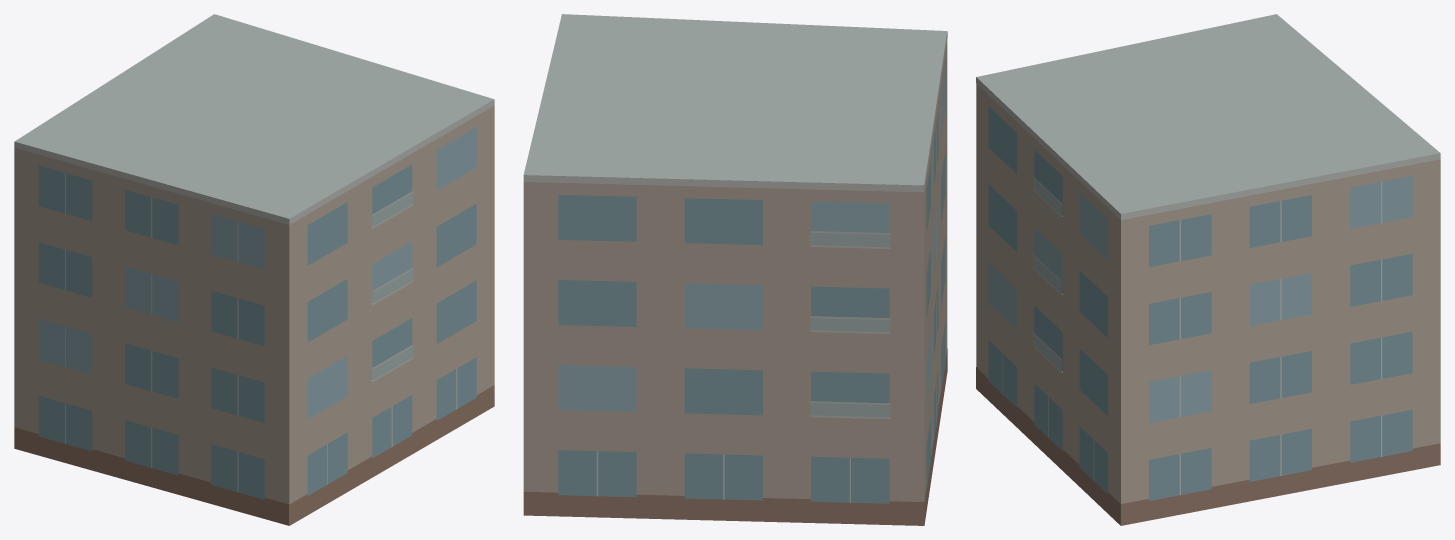
The model's file is survey-upis-33045461.glb.
3 views of the same model, side by side, from view 1: azimuth 30°, elevation 25°; view 2: azimuth 150°, elevation 25°; view 3: azimuth 270°, elevation 25° (orthographic). The views are drawn at different scales.
Parts seen in each view (by area): view 1: survey-upis-33045461.tmp; view 2: survey-upis-33045461.tmp; view 3: survey-upis-33045461.tmp.
Boxes of the visible parts, x1,y1,x2,y2 form: survey-upis-33045461.tmp: (14, 14, 494, 525); survey-upis-33045461.tmp: (523, 14, 947, 525); survey-upis-33045461.tmp: (976, 14, 1440, 525).
Bounding box in the file's own units: 16.79 × 12.2 × 16.48.
